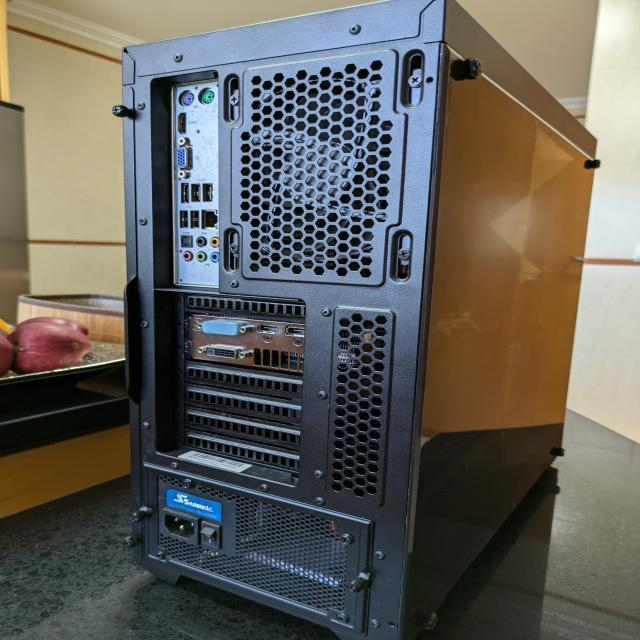PSU: (140, 462, 372, 638)
